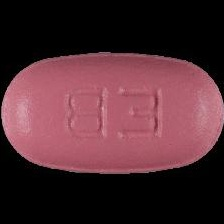16590-091: (0, 0, 224, 224)
